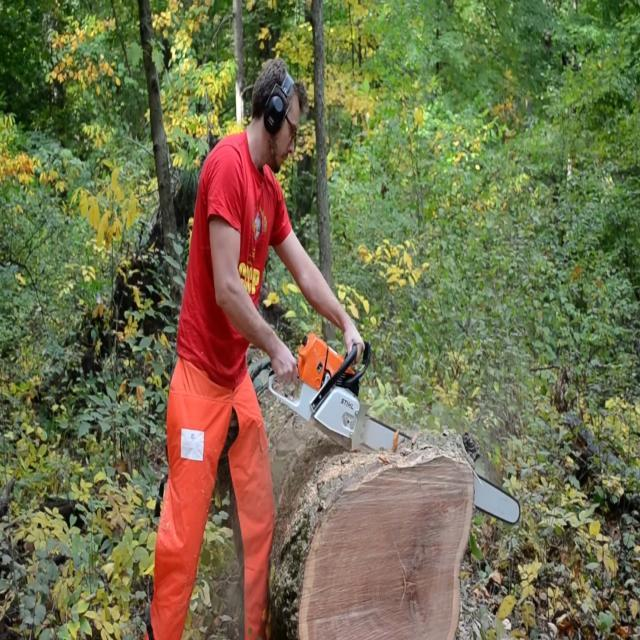Chainsaw: (262, 299, 526, 548)
